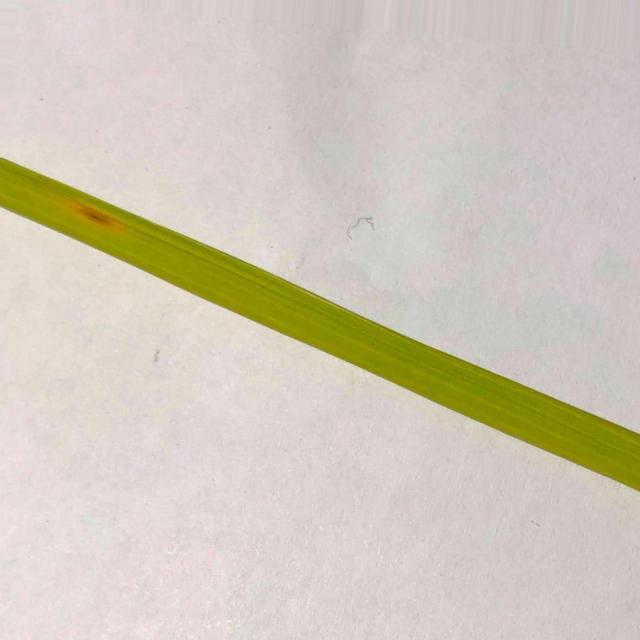Brown_Spot: (86, 209, 126, 231)
